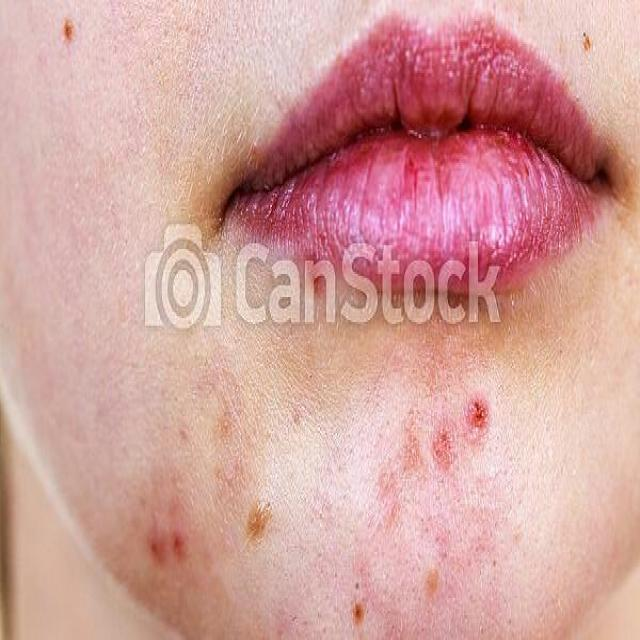Pimples: (464, 386, 489, 438), (247, 492, 271, 540), (349, 563, 368, 623), (146, 525, 168, 573), (168, 516, 188, 562), (433, 419, 450, 464), (402, 419, 417, 464), (59, 11, 78, 46), (214, 406, 232, 437), (581, 26, 591, 54)
